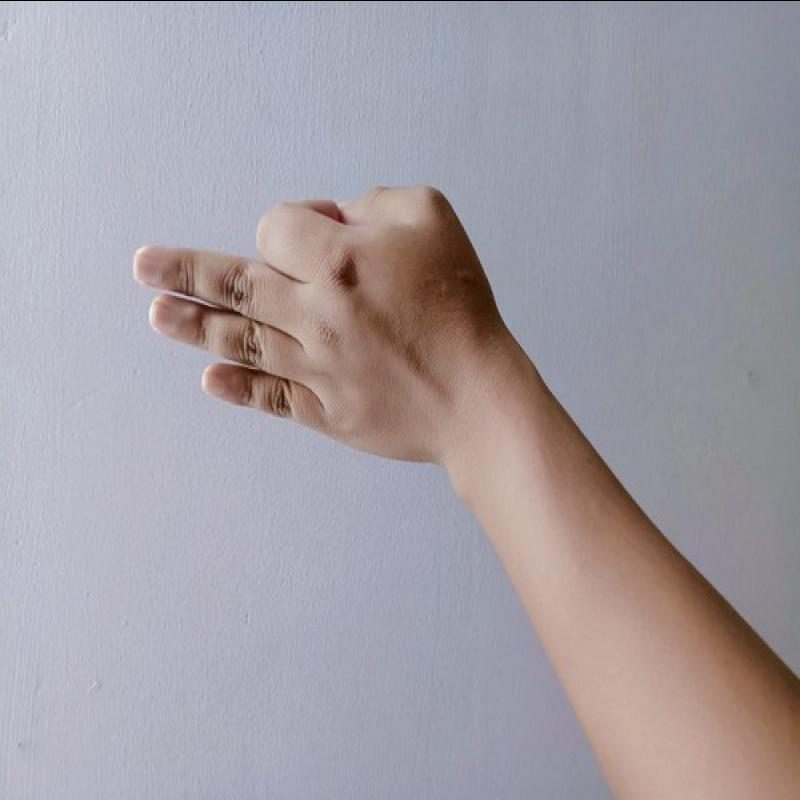Mudraakhyam: (119, 169, 504, 472)
